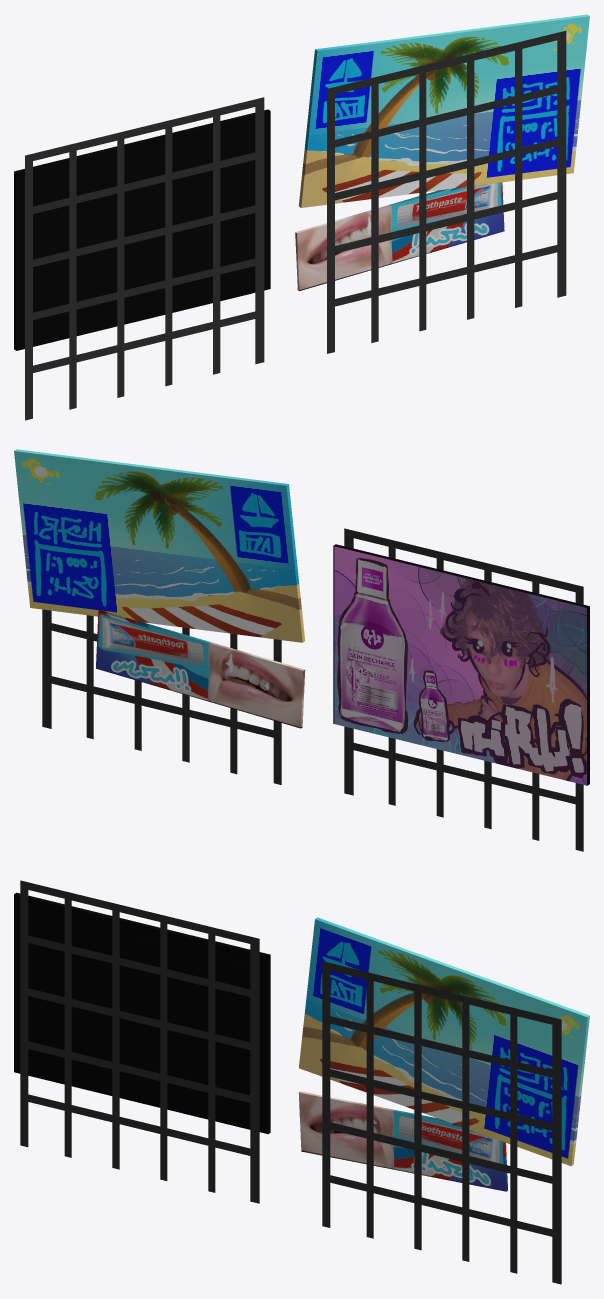
The model's file is MountedBillboards.fbx.
The picture shows the model from 3 angles, top to bottom: view 1: azimuth 30°, elevation 25°; view 2: azimuth 150°, elevation 25°; view 3: azimuth 330°, elevation 25°; orthographic projection.
Visible parts, largest first — view 1: Cube.025, Cube.024; view 2: Cube.025, Cube.024; view 3: Cube.025, Cube.024.
Part boxes in pixels (box(x1,y1,x2,y2)): Cube.025: box(295, 14, 589, 353); Cube.024: box(14, 97, 270, 420); Cube.025: box(14, 449, 305, 784); Cube.024: box(333, 528, 589, 851); Cube.025: box(298, 917, 589, 1284); Cube.024: box(14, 880, 270, 1203).
Size of the model in its own units: 6818 by 3454 by 104.
